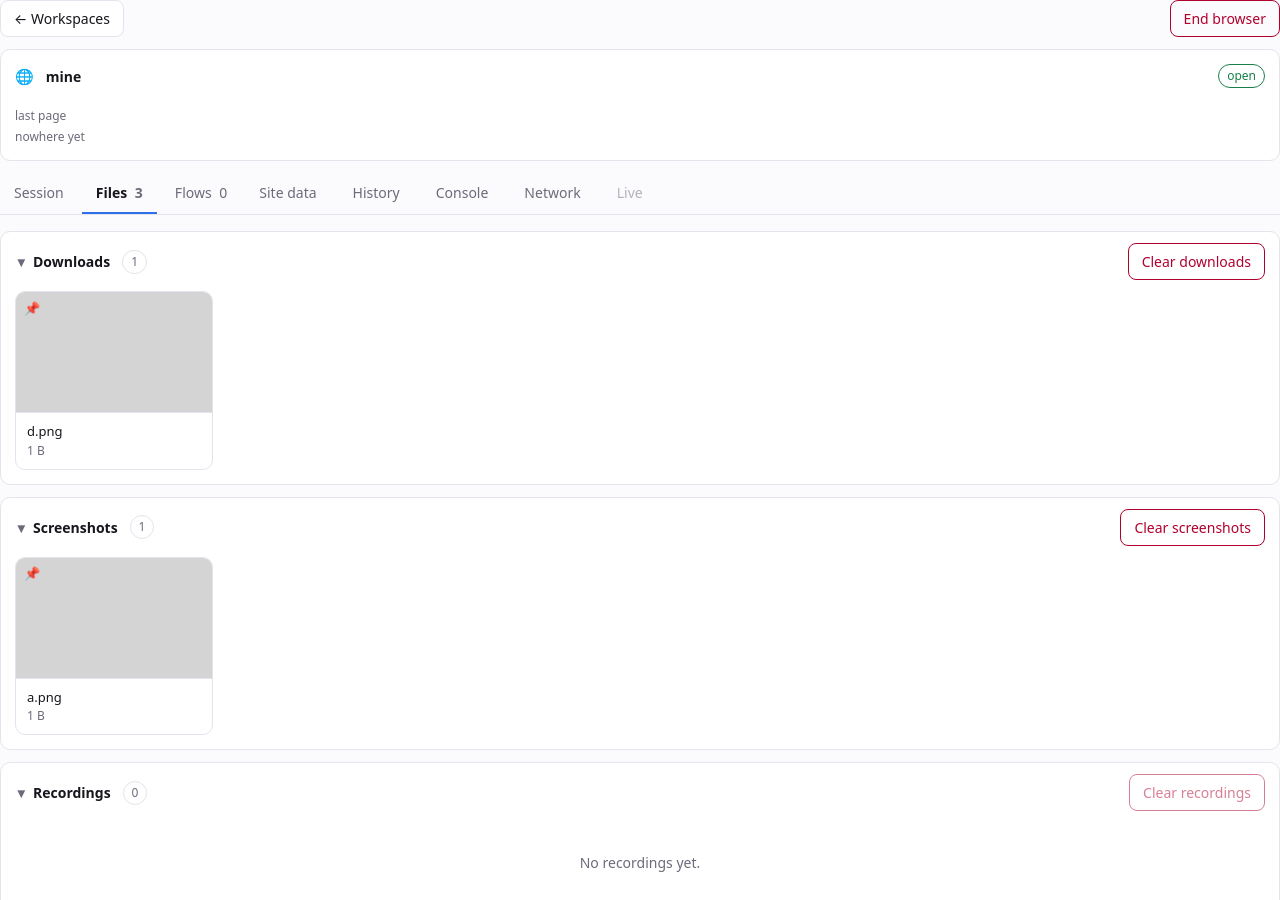
Test: clearing the one and only screenshot says "the 1 screenshot", not "all 1" (F4)
This screenshot has width=1280, height=900.
Click the button with id "clearScreenshots" at (1193, 527), box [1120,508,1265,546]
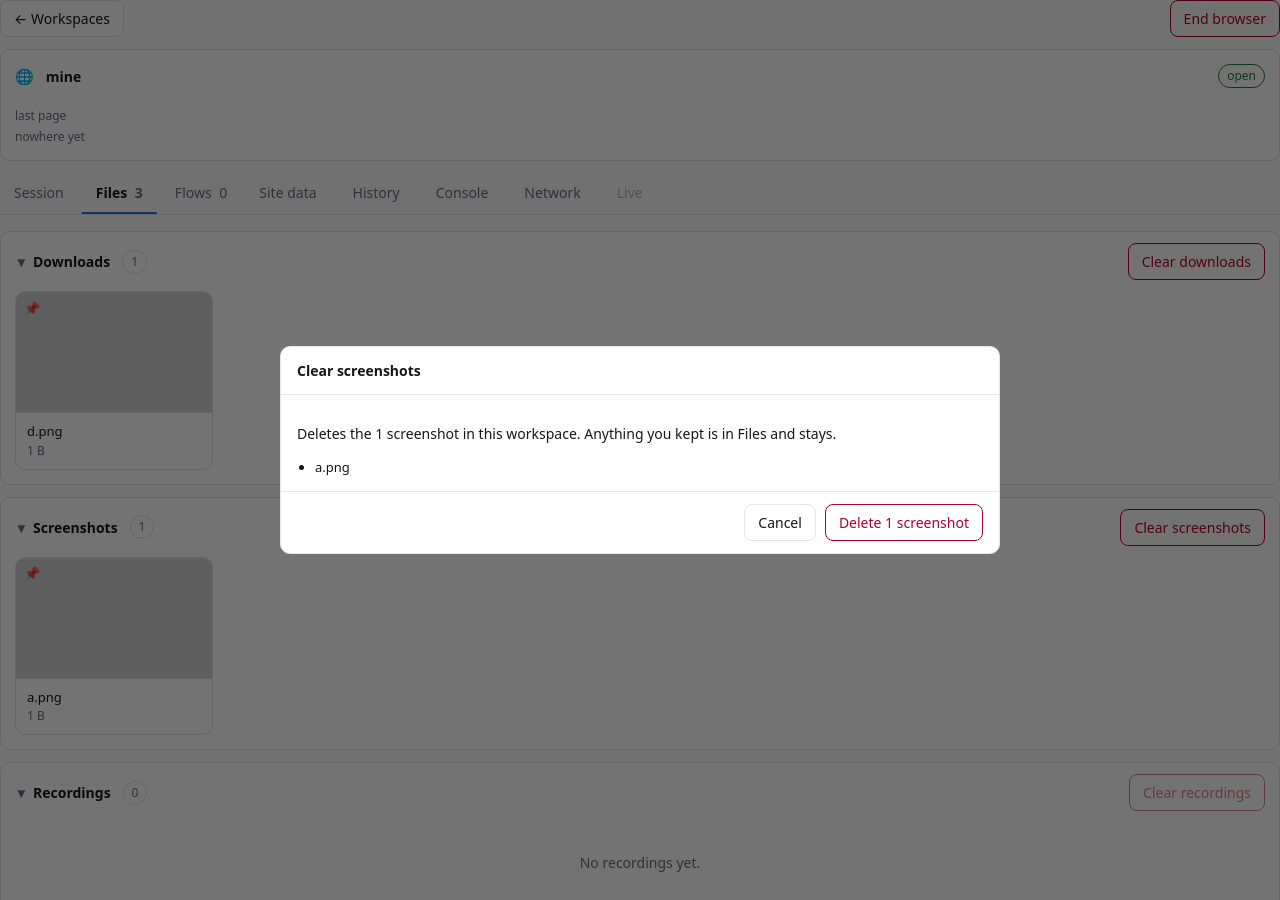
Now the element with class "modal" shows "Deletes the 1 screenshot in this workspace. Anything you kept is in Files and stays.", box [297,424,836,443]
Now the button "Delete 1 screenshot" is shown, box [825,504,983,541]
